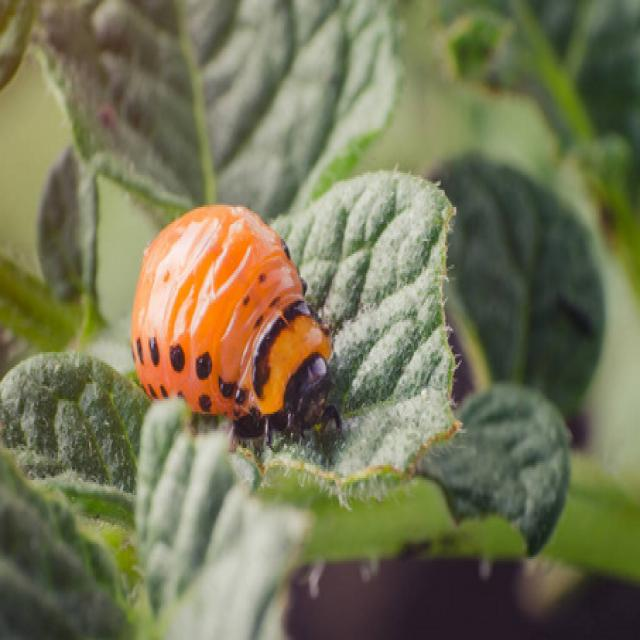ShuCaiHuaBanChong-Larva-: (149, 195, 359, 440)
